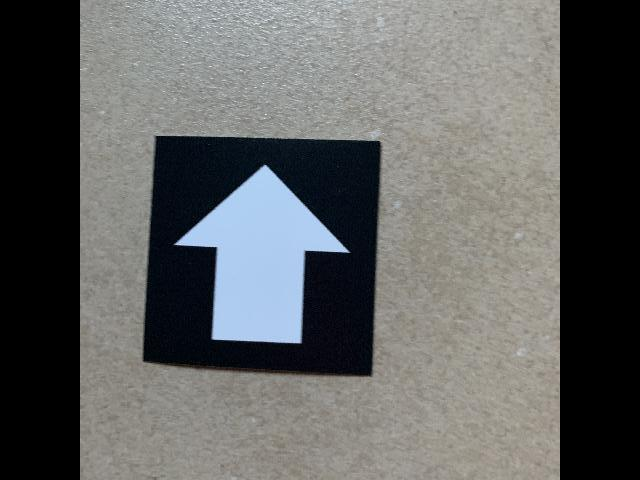up_arrow: (142, 134, 383, 381)
